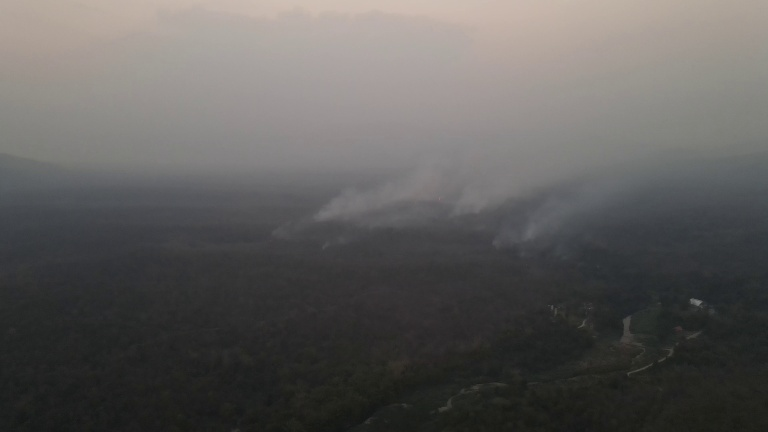smoke: (303, 140, 570, 238)
